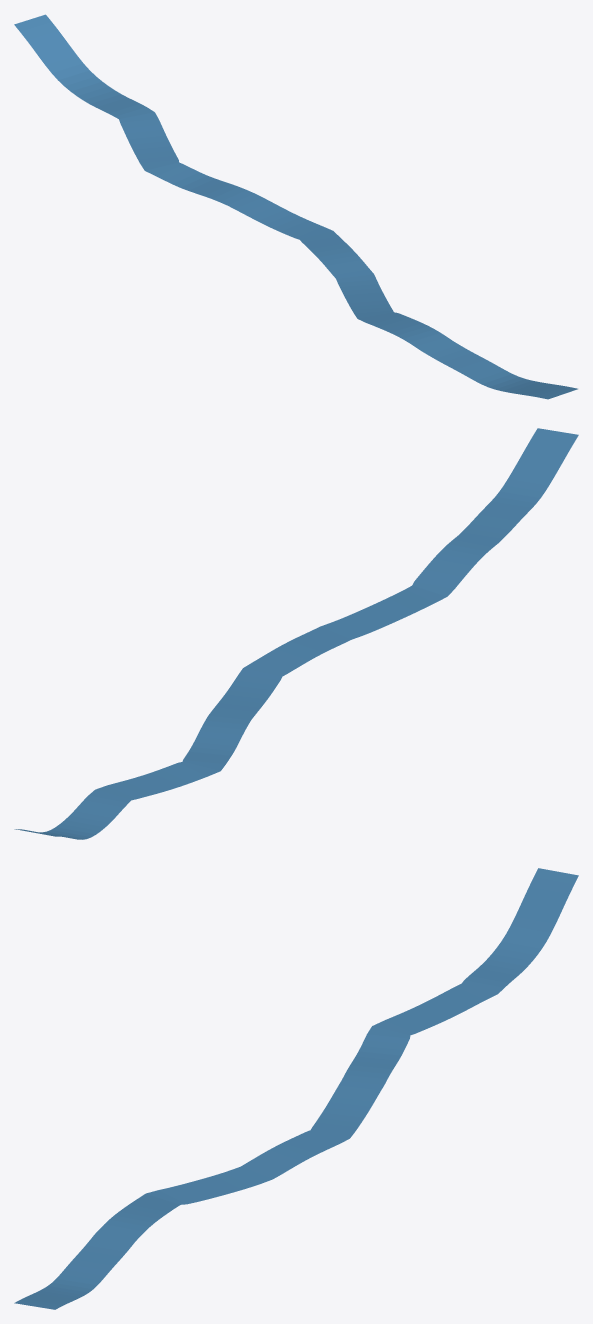
File: water.glb
3 views of the same model, one above another, from view 1: azimuth 30°, elevation 25°; view 2: azimuth 150°, elevation 25°; view 3: azimuth 330°, elevation 25° (orthographic). The views are drawn at different scales.
Parts seen in each view (by area): view 1: water; view 2: water; view 3: water.
Boxes of the visible parts, x1,y1,x2,y2 form: water: (14,14,577,399); water: (14,428,578,839); water: (14,868,578,1309).
Bounding box in the file's own units: 18.6 × 9.79 × 193.
